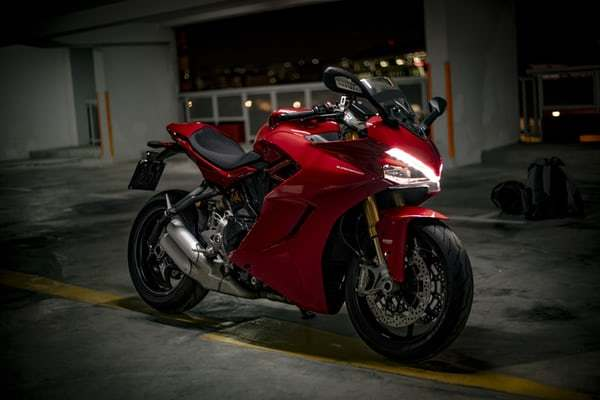10_label: (119, 55, 502, 363)
